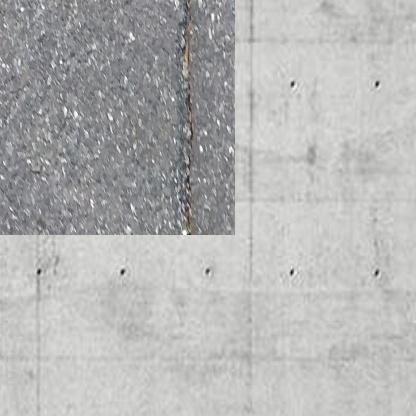Cracks: (156, 0, 181, 217)
